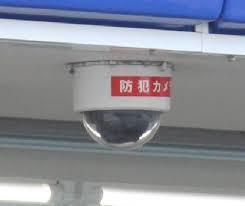maru: (66, 57, 176, 157)
